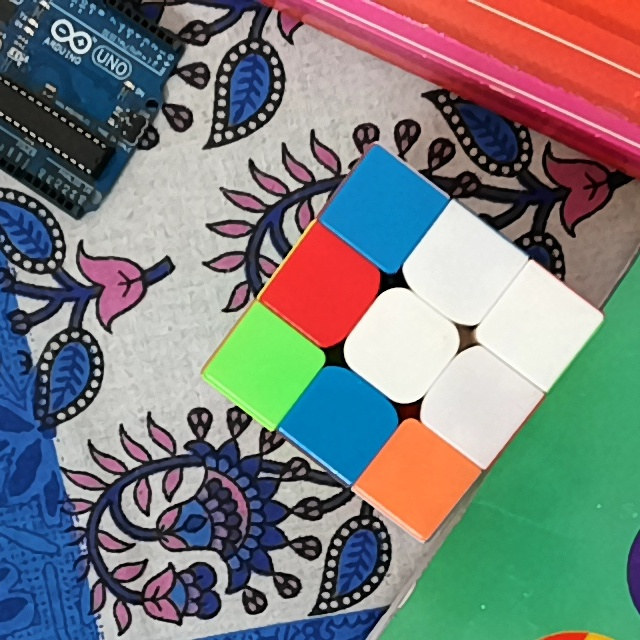tile: (348, 182, 419, 243), (448, 370, 513, 436), (368, 314, 434, 379), (290, 258, 356, 322), (428, 235, 495, 298), (507, 294, 569, 360), (232, 334, 294, 399), (385, 448, 448, 508), (312, 391, 373, 450)
